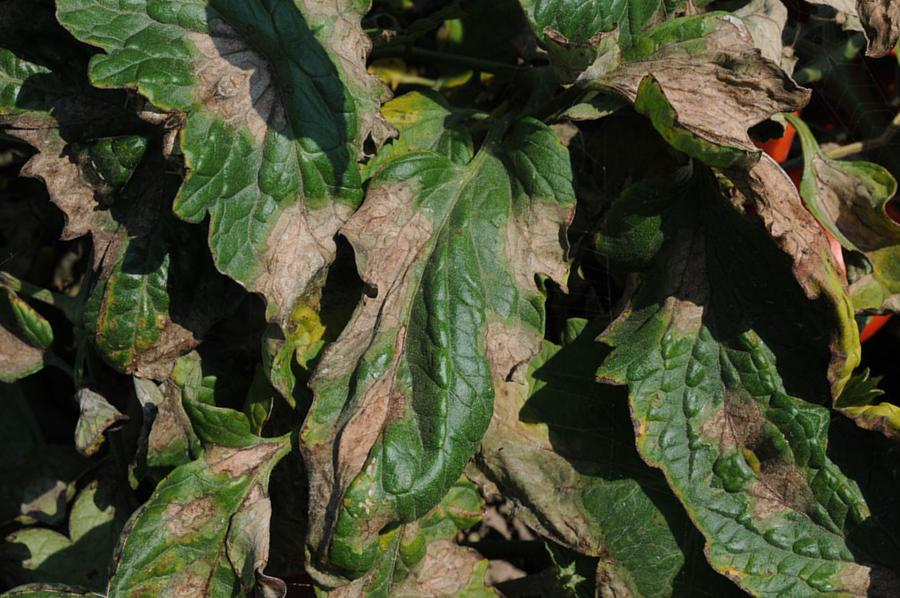Tomato leaf late blight: (153, 78, 724, 598), (128, 5, 502, 359), (525, 169, 866, 517), (528, 0, 891, 284), (60, 392, 432, 598), (444, 0, 765, 101)
